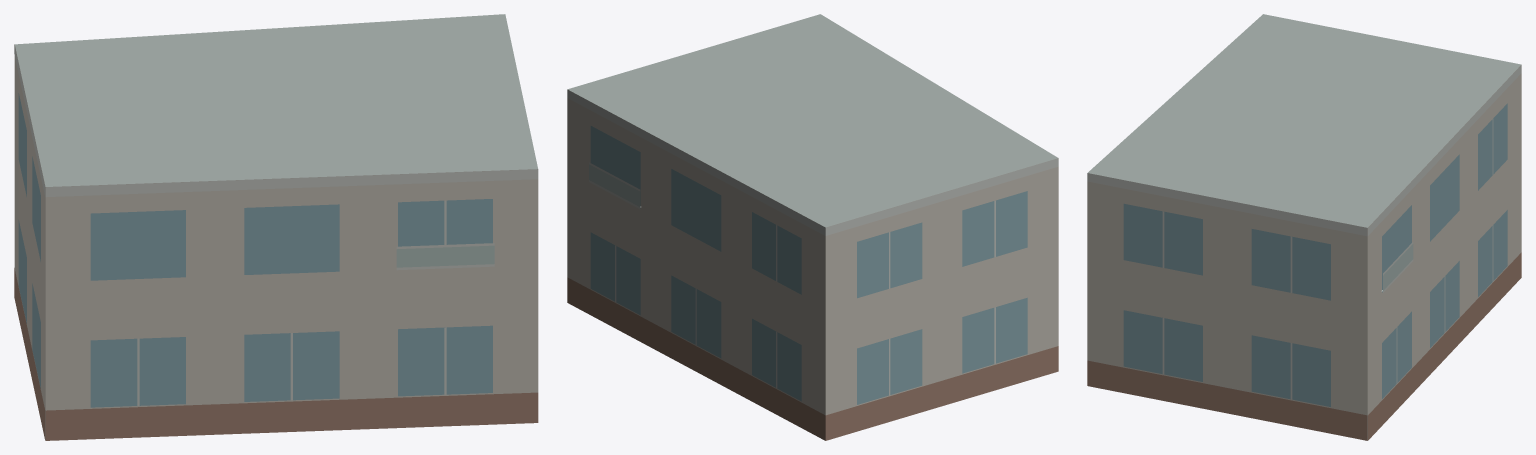
Rendered from survey-upis-32957843.glb.
3 views of the same model, side by side, from view 1: azimuth 30°, elevation 25°; view 2: azimuth 150°, elevation 25°; view 3: azimuth 270°, elevation 25° (orthographic). The views are drawn at different scales.
Visible parts, largest first — view 1: survey-upis-32957843.tmp; view 2: survey-upis-32957843.tmp; view 3: survey-upis-32957843.tmp.
Boxes of the visible parts, x1,y1,x2,y2 form: survey-upis-32957843.tmp: [14, 14, 538, 440]; survey-upis-32957843.tmp: [567, 14, 1058, 440]; survey-upis-32957843.tmp: [1087, 14, 1521, 440].
Size of the model in its own units: 13.14 by 6.1 by 11.28.
